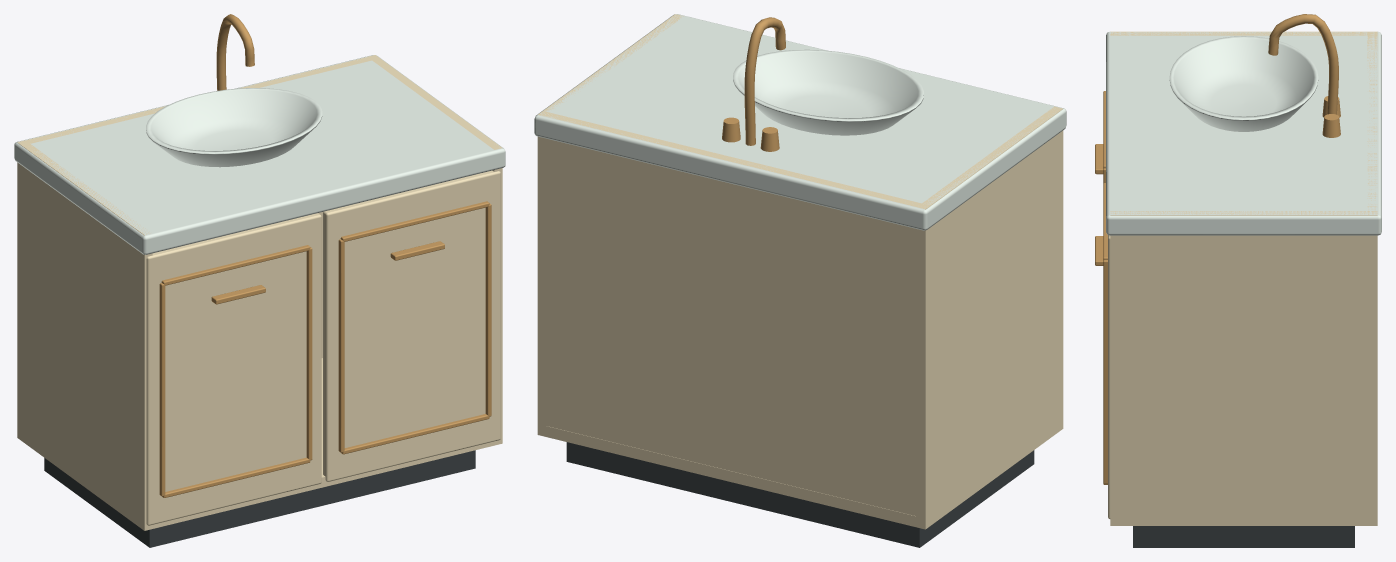
File: sink_palais-69fd3508b5c9.glb
3 views of the same model, side by side, from view 1: azimuth 30°, elevation 25°; view 2: azimuth 150°, elevation 25°; view 3: azimuth 270°, elevation 25° (orthographic). The views are drawn at different scales.
Parts seen in each view (by area): view 1: surface_ivory, surface_porcelain, surface_brass, surface_graphite; view 2: surface_ivory, surface_porcelain, surface_graphite, surface_brass; view 3: surface_ivory, surface_porcelain, surface_graphite, surface_brass.
Boxes of the visible parts, bbox=[...] form: surface_ivory: bbox=[17, 55, 502, 530]; surface_porcelain: bbox=[14, 55, 505, 254]; surface_brass: bbox=[159, 14, 491, 497]; surface_graphite: bbox=[44, 450, 475, 547]; surface_ivory: bbox=[537, 14, 1063, 529]; surface_porcelain: bbox=[534, 14, 1066, 230]; surface_graphite: bbox=[566, 442, 1034, 547]; surface_brass: bbox=[722, 17, 785, 151]; surface_ivory: bbox=[1108, 31, 1377, 525]; surface_porcelain: bbox=[1106, 32, 1381, 235]; surface_graphite: bbox=[1133, 526, 1354, 547]; surface_brass: bbox=[1095, 14, 1340, 484].
Bounding box in the file's own units: 1.05 × 1.19 × 0.6861.
